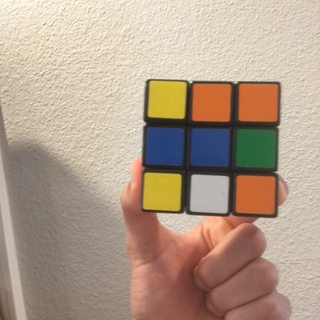face: (142, 80, 279, 218)
